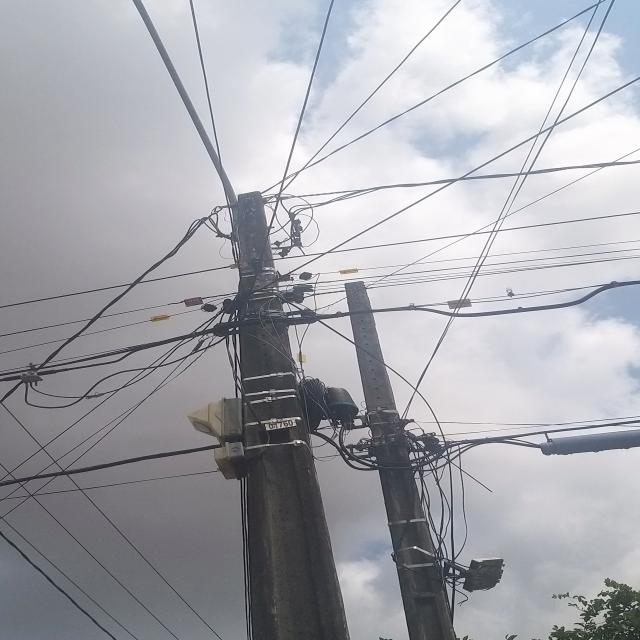Plaqueta: (183, 297, 204, 307)
